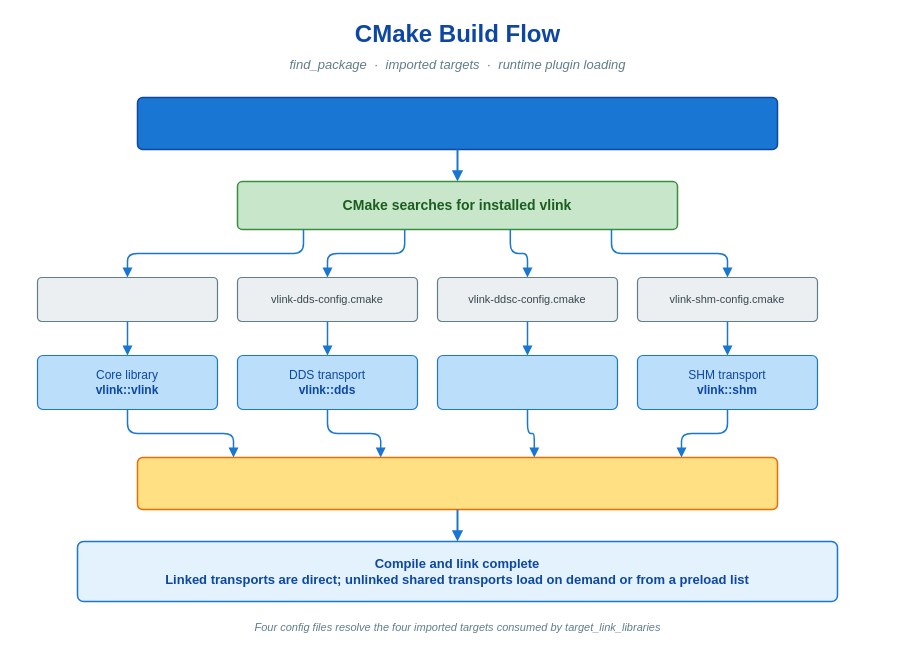
Image size: 914x654. Some labels were removed from this diagram. Here are the shapes that lost their labels. From the top down, the box of each, then its label:
(136, 96, 778, 150): find_package(vlink REQUIRED COMPONENTS dds ddsc shm)
(36, 276, 218, 322): vlink-config.cmake
(436, 354, 618, 410): CycloneDDS transport vlink::ddsc
(136, 456, 778, 510): target_link_libraries(my_app vlink::vlink vlink::dds vlink::ddsc vlink::shm)
